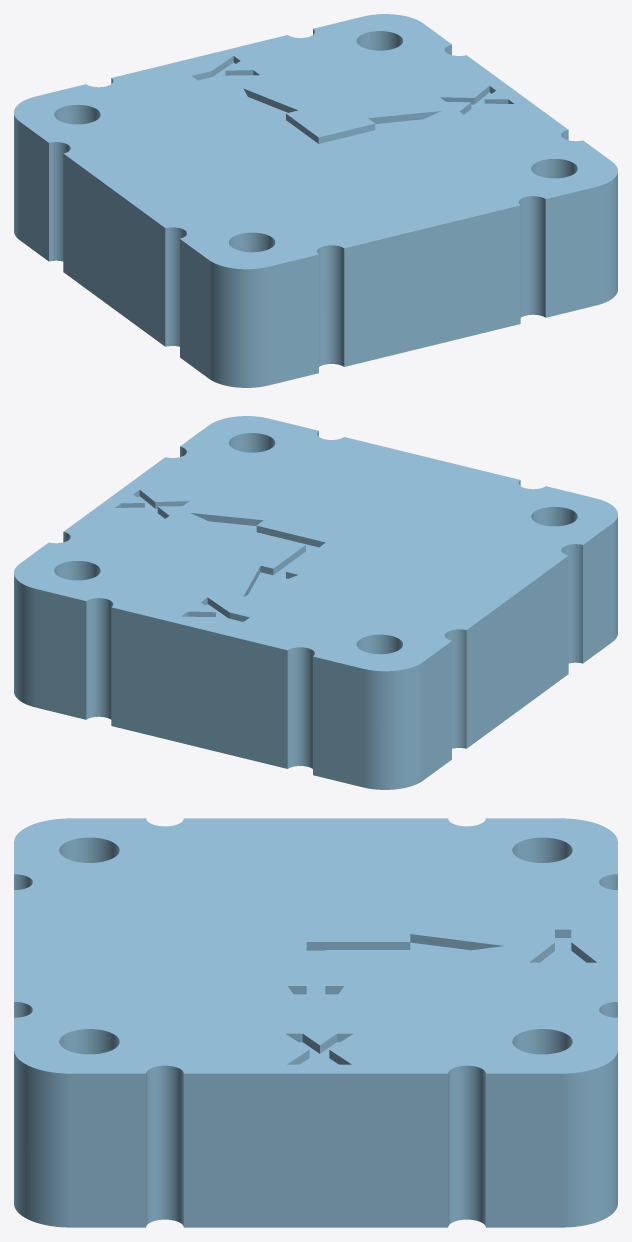
Rendered from imu.dae.
3 renders of one model, top to bottom at view 1: azimuth 30°, elevation 25°; view 2: azimuth 150°, elevation 25°; view 3: azimuth 270°, elevation 25°, orthographic. The views are drawn at different scales.
Visible parts, largest first — view 1: ID2; view 2: ID2; view 3: ID2.
Part boxes in pixels (x1,y1,x2,y2): ID2: (14, 14, 617, 387); ID2: (14, 416, 617, 789); ID2: (14, 818, 617, 1227).
Size of the model in its own units: 0.032 by 0.032 by 0.009.
